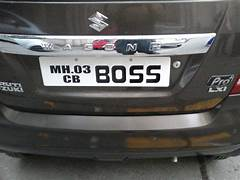number_plate: (40, 56, 170, 87)
